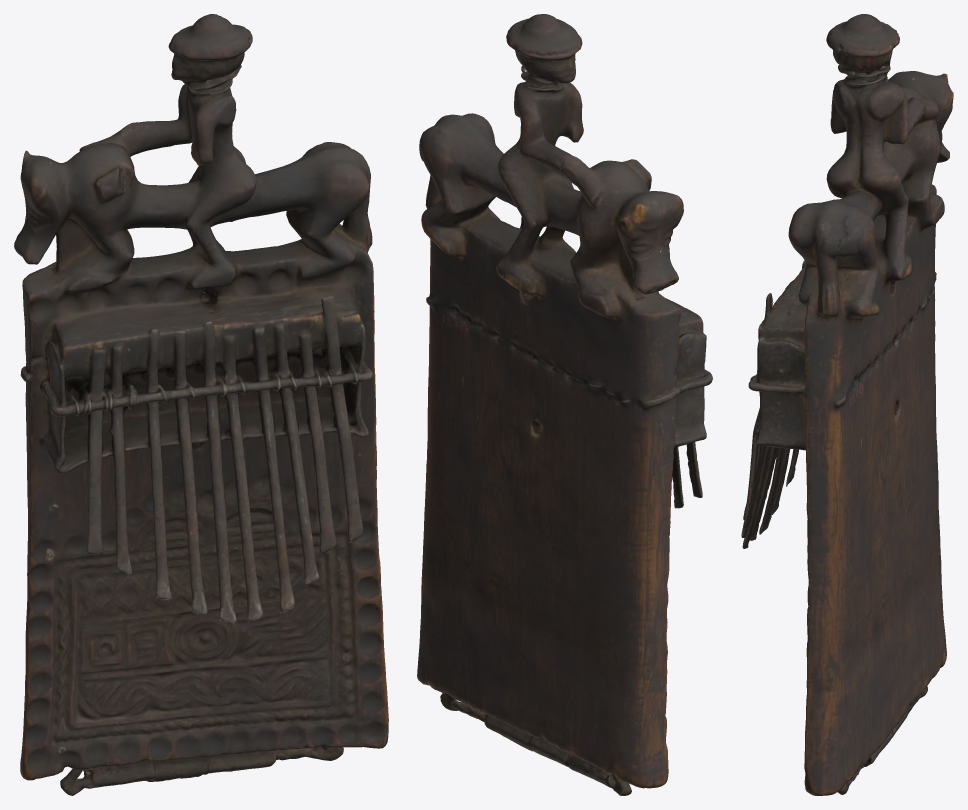
The model's file is preview.glb.
3 views of the same model, side by side, from view 1: azimuth 30°, elevation 25°; view 2: azimuth 150°, elevation 25°; view 3: azimuth 270°, elevation 25° (orthographic). The views are drawn at different scales.
Visible parts, largest first — view 1: Object_2; view 2: Object_2; view 3: Object_2.
Boxes of the visible parts, bbox=[...] form: Object_2: bbox=[14, 14, 388, 795]; Object_2: bbox=[417, 14, 712, 795]; Object_2: bbox=[741, 14, 953, 795].
Size of the model in its own units: 0.0876 by 0.2021 by 0.0528.
1 material, 1 textured.
